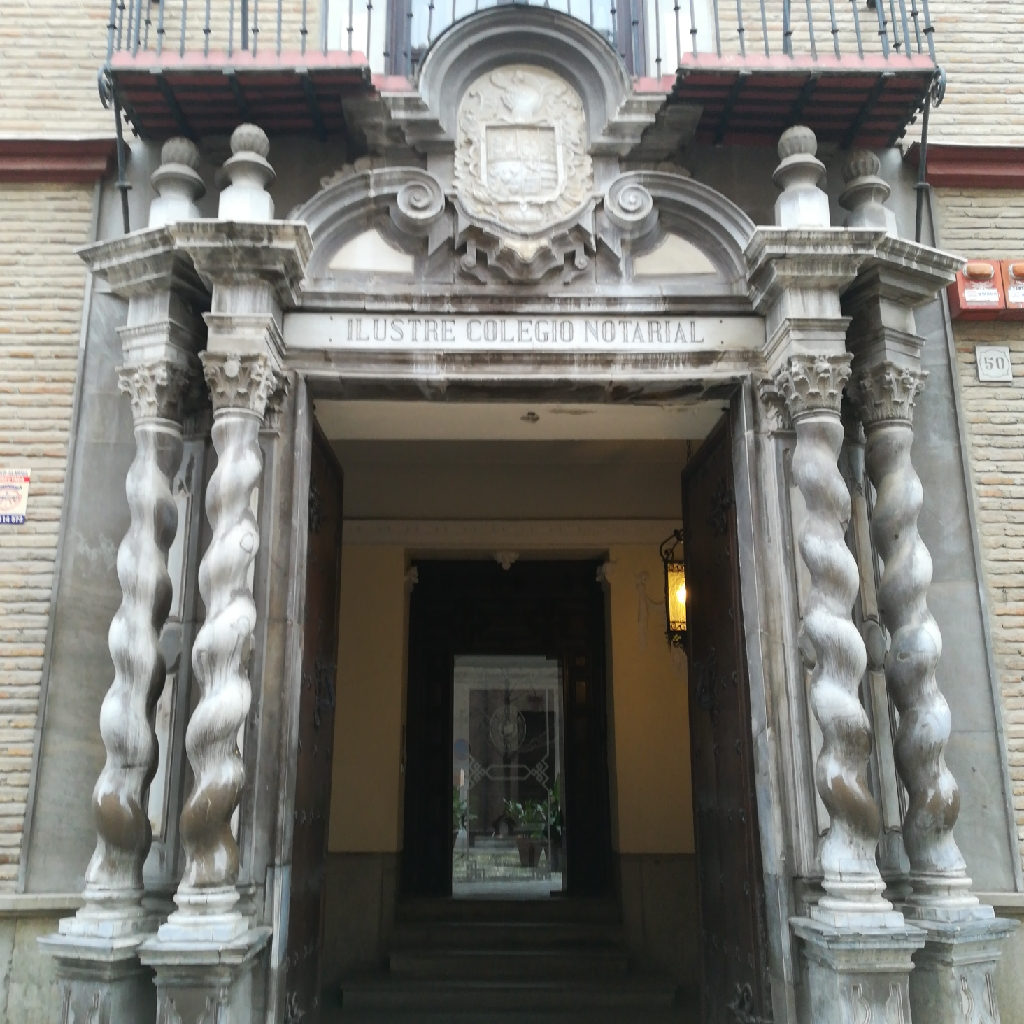columna-salomonica: (859, 406, 987, 865), (79, 402, 200, 880), (780, 393, 891, 877), (176, 389, 281, 889)
fronton-partido: (270, 147, 781, 309)
